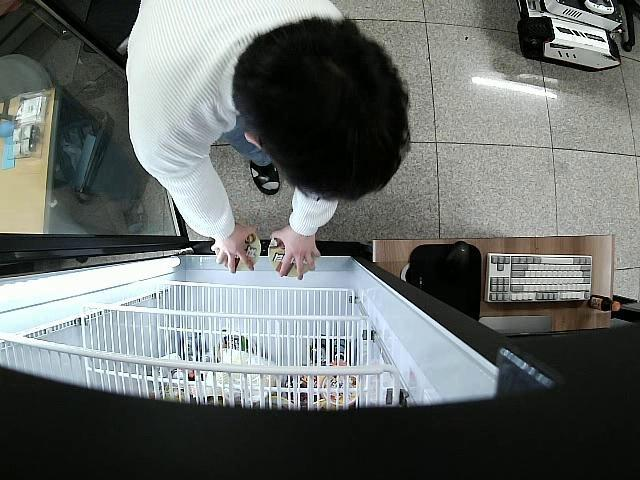03_chapagetti_L: (268, 233, 314, 279), (214, 234, 263, 274)
